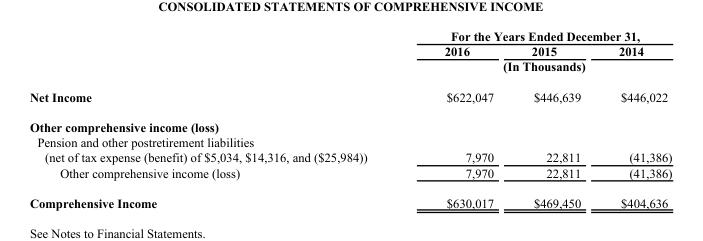table: (28, 28, 671, 209)
table column: (28, 28, 405, 209), (405, 28, 511, 209), (511, 28, 599, 209), (599, 28, 671, 209)
table column header: (28, 28, 671, 81)
table projected row header: (28, 111, 671, 134), (28, 134, 671, 149)
table row: (28, 81, 671, 111), (28, 58, 671, 81), (28, 111, 671, 134), (28, 164, 671, 187), (28, 187, 671, 209), (28, 28, 671, 43), (28, 43, 671, 58), (28, 134, 671, 149), (28, 149, 671, 164)
table spanning cell: (405, 58, 671, 81), (405, 28, 671, 43)
